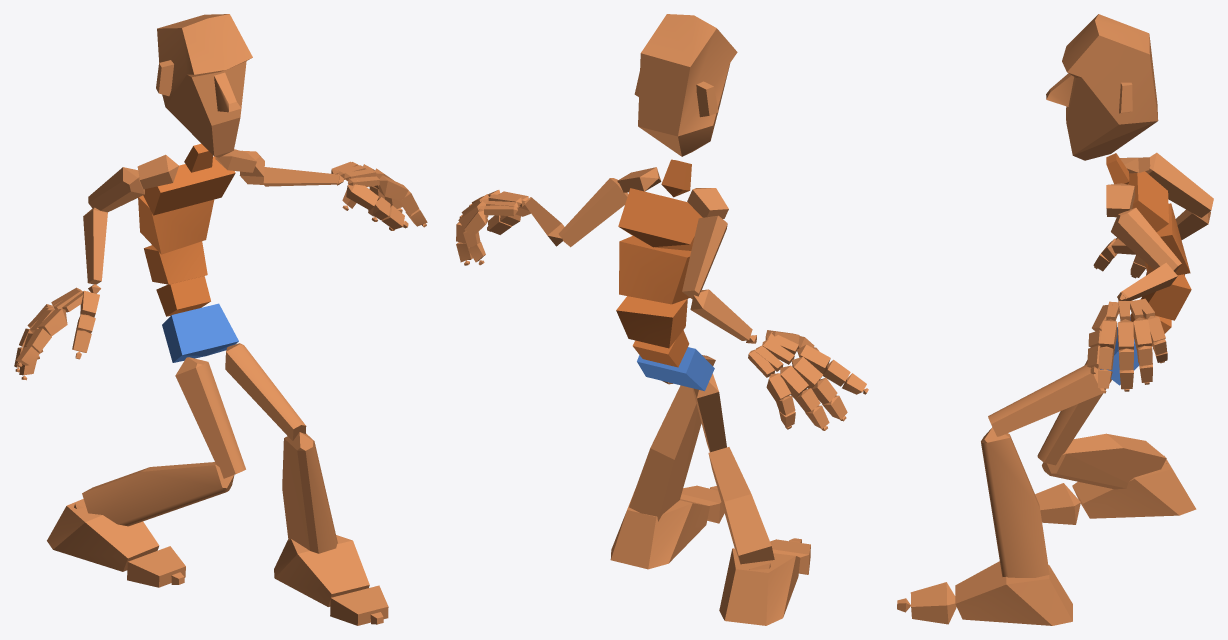
3 renders of one model, left to right at view 1: azimuth 30°, elevation 25°; view 2: azimuth 150°, elevation 25°; view 3: azimuth 270°, elevation 25°, orthographic. The views are drawn at different scales.
Parts seen in each view (by area): view 1: BOPED_Head, BOPED_R_leg, BOPED_L_leg, BOPED_R_foot, BOPED_R_foot01, BOPED_R_legup, Bone01, BOPED_L_legup, Bone04, Bone05, Bone03, BOPED_R_foot_toe04 (+8 smaller); view 2: BOPED_Head, BOPED_L_leg, BOPED_R_foot, BOPED_R_foot01, Bone04, BOPED_R_leg, Bone05, Bone03, BOPED_R_arm_upper, BOPED_L_arm_upper, Bone01, BOPED_R_legup (+8 smaller); view 3: BOPED_Head, BOPED_L_leg, BOPED_R_foot01, BOPED_R_leg, BOPED_R_foot, BOPED_L_legup, BOPED_L_arm_upper, BOPED_R_arm_upper, BOPED_R_legup, Bone05, BOPED_R_foot_toe04, BOPED_R_foot_toe01 (+9 smaller).
Boxes of the visible parts, <box> form: BOPED_Head: <box>156,14,252,157</box>; BOPED_R_leg: <box>82,462,234,526</box>; BOPED_L_leg: <box>282,432,337,553</box>; BOPED_R_foot: <box>47,499,159,571</box>; BOPED_R_foot01: <box>274,535,369,606</box>; BOPED_R_legup: <box>175,357,245,478</box>; Bone01: <box>162,303,238,362</box>; BOPED_L_legup: <box>225,343,306,440</box>; Bone04: <box>138,195,214,254</box>; Bone05: <box>143,156,235,215</box>; Bone03: <box>144,241,207,284</box>; BOPED_R_foot_toe04: <box>330,585,388,625</box>; BOPED_Head: <box>634,14,737,156</box>; BOPED_L_leg: <box>629,385,701,521</box>; BOPED_R_foot: <box>719,548,800,625</box>; BOPED_R_foot01: <box>610,491,709,569</box>; Bone04: <box>619,236,691,304</box>; BOPED_R_leg: <box>708,447,774,564</box>; Bone05: <box>618,188,702,250</box>; Bone03: <box>616,296,687,348</box>; BOPED_R_arm_upper: <box>682,215,727,299</box>; BOPED_L_arm_upper: <box>558,178,628,247</box>; Bone01: <box>637,347,714,391</box>; BOPED_R_legup: <box>692,373,726,452</box>; BOPED_Head: <box>1046,14,1158,160</box>; BOPED_L_leg: <box>981,427,1049,577</box>; BOPED_R_foot01: <box>955,561,1072,625</box>; BOPED_R_leg: <box>1042,433,1166,489</box>; BOPED_R_foot: <box>1072,455,1196,518</box>; BOPED_L_legup: <box>988,364,1103,436</box>; BOPED_L_arm_upper: <box>1111,208,1181,272</box>; BOPED_R_arm_upper: <box>1145,152,1213,217</box>; BOPED_R_legup: <box>1037,360,1111,465</box>; Bone05: <box>1128,171,1168,232</box>; BOPED_R_foot_toe04: <box>910,582,956,624</box>; BOPED_R_foot_toe01: <box>1035,483,1080,524</box>.
Bounding box in the file's own units: 130 × 172 × 88.88.
